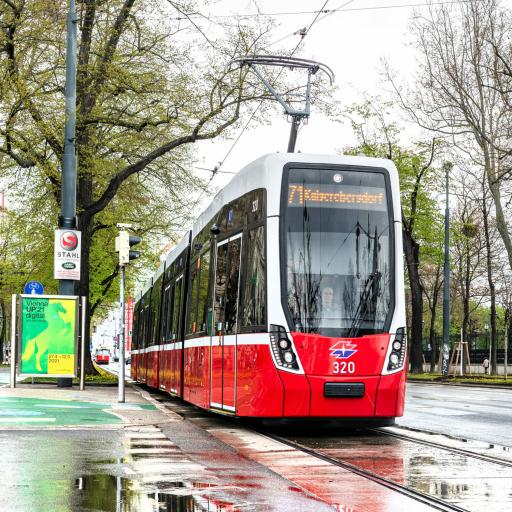Flexity: (128, 145, 411, 447)
